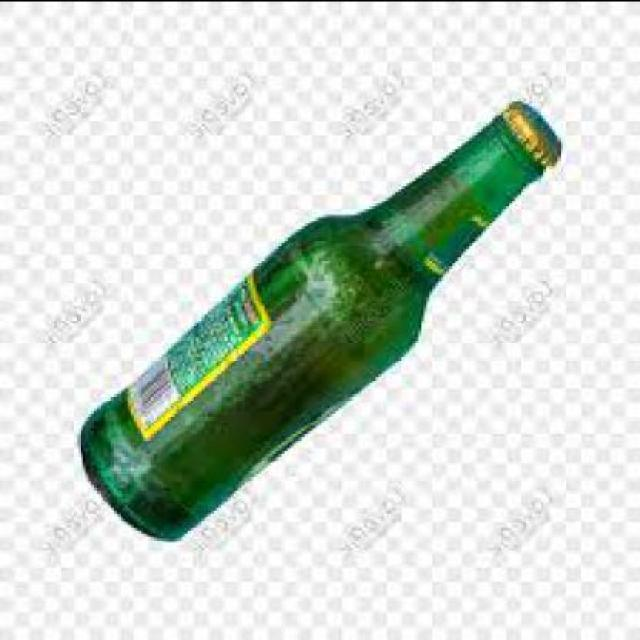GLASS: (80, 101, 559, 539)
METAL: (501, 101, 560, 167)
